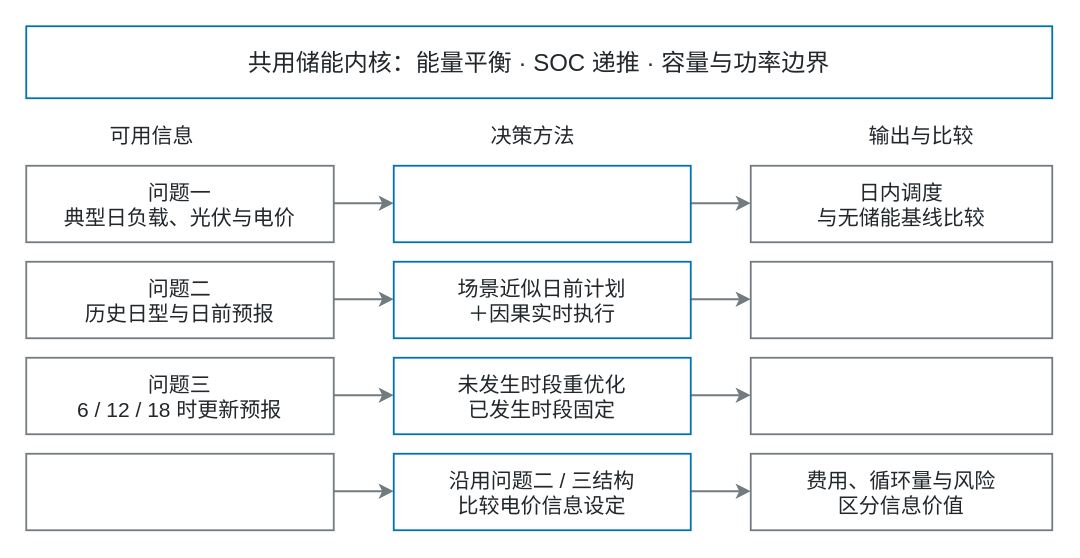
This 1080x558 diagram has some shape labels left out. Each missing label, with the box of its shape:
确定性线性规划: (392, 164, 691, 242)
调整后购电 核算调整净收益: (749, 356, 1052, 434)
锁定购电计划 计入紧急购电费: (749, 260, 1052, 338)
问题四 逐日波动电价: (25, 452, 334, 530)
